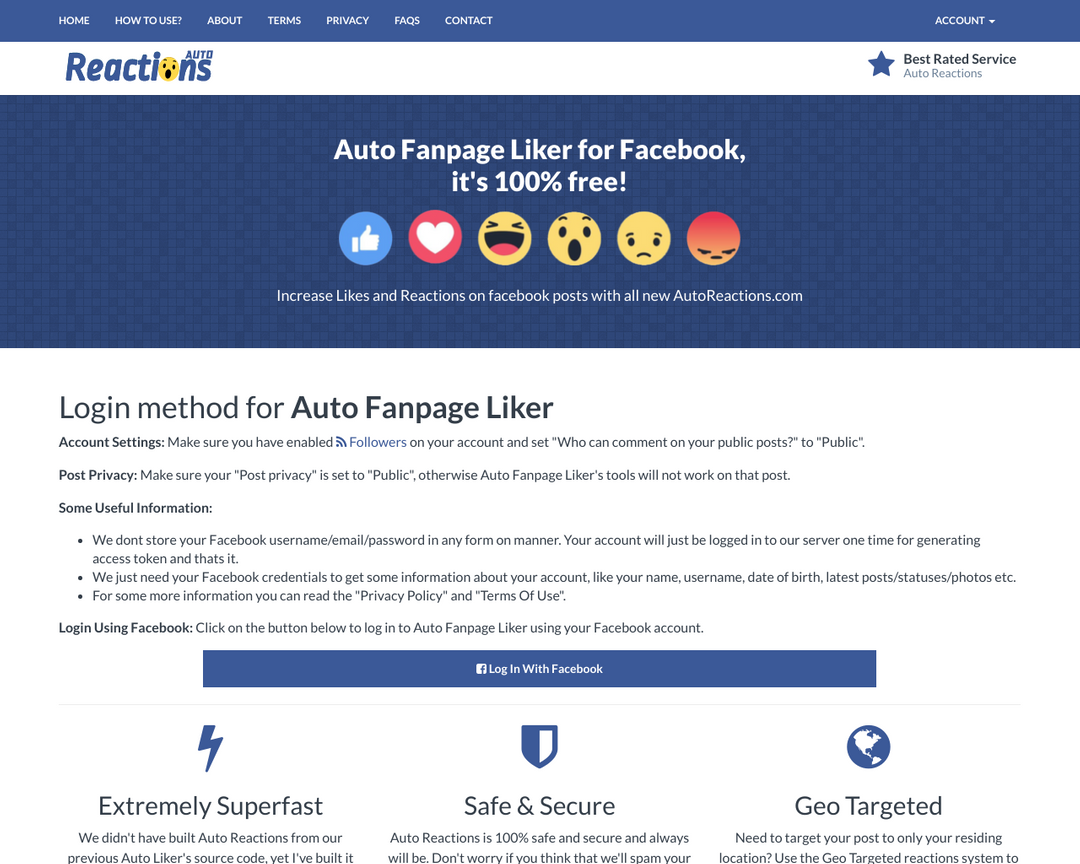Facebook: (471, 659, 491, 676)
